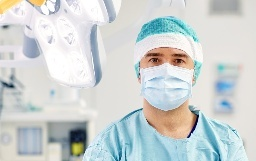correctlyWear: (133, 45, 199, 111)
